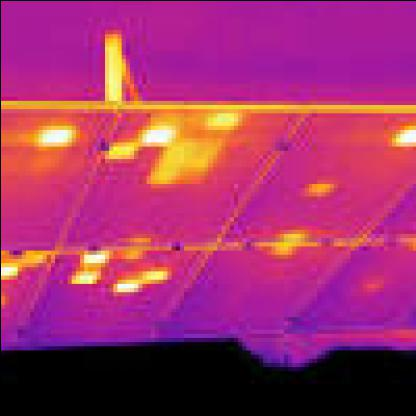Defects: (387, 120, 415, 159), (4, 258, 33, 287), (278, 220, 300, 258), (37, 124, 74, 146), (162, 150, 212, 166), (70, 266, 104, 287), (142, 124, 170, 146), (150, 166, 188, 182), (142, 262, 170, 283), (116, 278, 142, 300), (78, 250, 112, 266), (308, 170, 324, 204), (208, 113, 237, 128)
